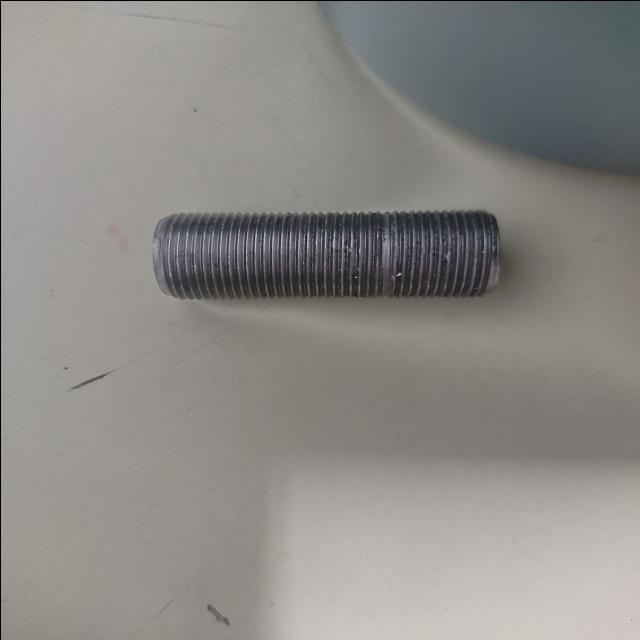Broken: (154, 207, 498, 300)
